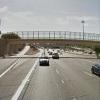Bridge: (11, 24, 93, 53)
